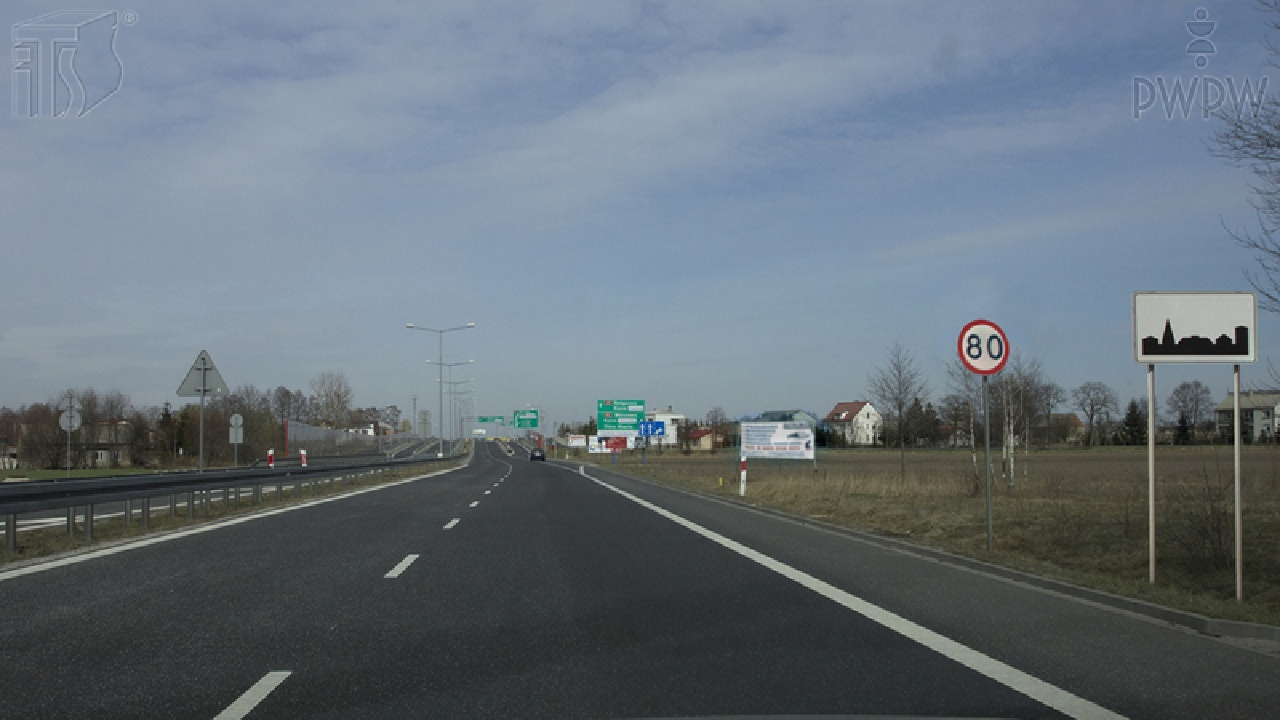B33_80: (958, 319, 1010, 374)
D42: (1134, 292, 1257, 363)
